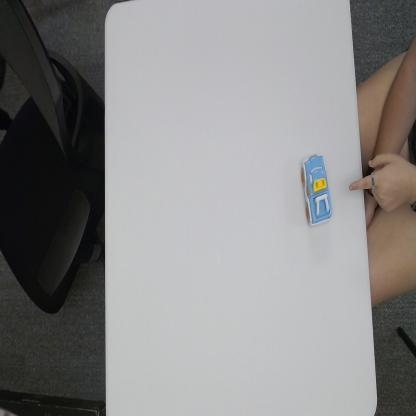Car: (299, 152, 333, 229)
Hand: (347, 149, 416, 215)
